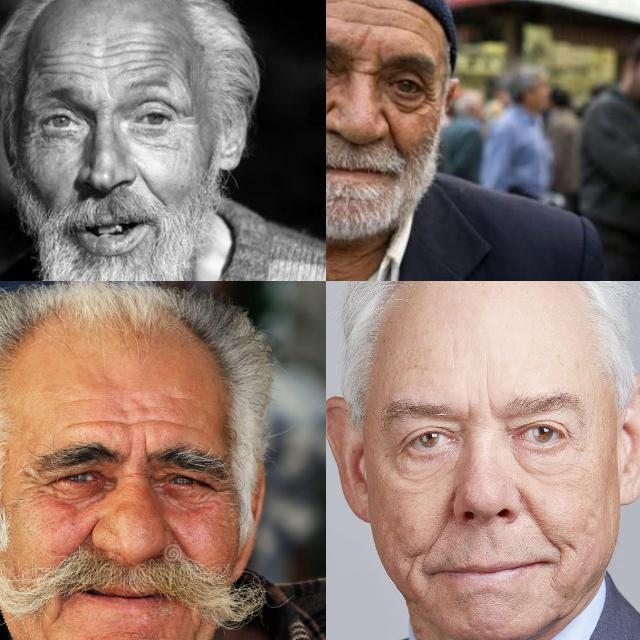crows_feet: (15, 464, 47, 500), (211, 478, 233, 512), (19, 118, 41, 148), (421, 86, 437, 112)
forehead: (63, 406, 203, 440), (126, 38, 170, 74), (84, 42, 122, 78), (352, 12, 392, 38), (41, 49, 73, 79), (394, 20, 428, 40), (352, 0, 392, 15), (399, 5, 429, 25), (326, 7, 347, 24), (326, 0, 343, 8)
frown_line: (476, 376, 504, 422), (353, 58, 379, 76)
gummy_smile: (520, 491, 560, 557), (424, 494, 458, 554), (159, 516, 193, 562), (69, 508, 97, 558), (140, 172, 166, 210), (382, 109, 402, 153)
sad_smile: (402, 545, 438, 603), (179, 608, 202, 640), (50, 588, 68, 628), (561, 532, 583, 560)
